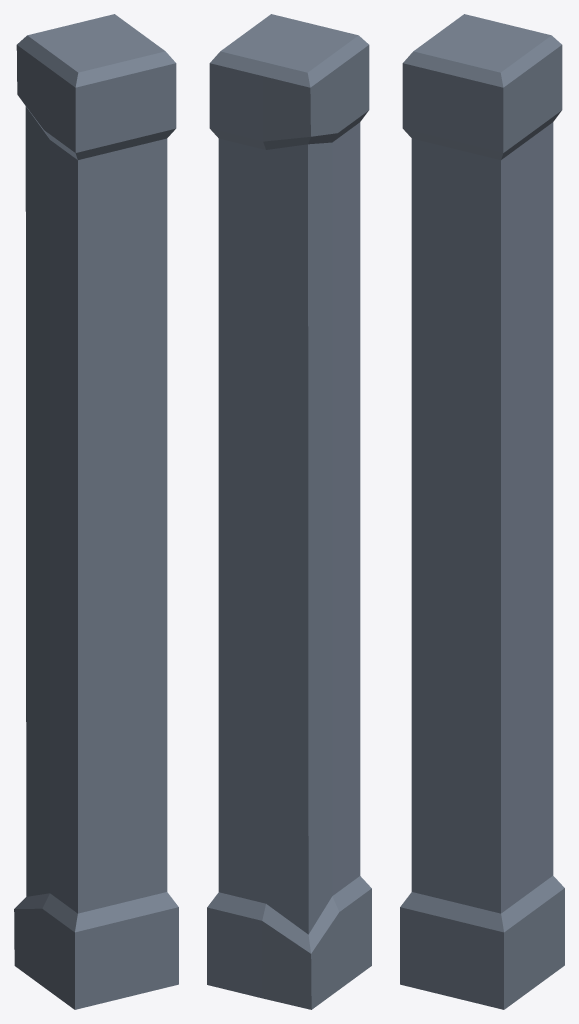
Rendered from g_o_GarageWallCorner270.fbx.
3 renders of one model, left to right at view 1: azimuth 30°, elevation 25°; view 2: azimuth 150°, elevation 25°; view 3: azimuth 330°, elevation 25°, orthographic.
Parts seen in each view (by area): view 1: g_o_GarageWallCorner270; view 2: g_o_GarageWallCorner270; view 3: g_o_GarageWallCorner270.
Part boxes in pixels (x1,y1,x2,y2): g_o_GarageWallCorner270: (14,14,178,1009); g_o_GarageWallCorner270: (207,14,371,1009); g_o_GarageWallCorner270: (400,14,564,1009).
Bounding box in the file's own units: 0.2198 × 1.88 × 0.2223.
